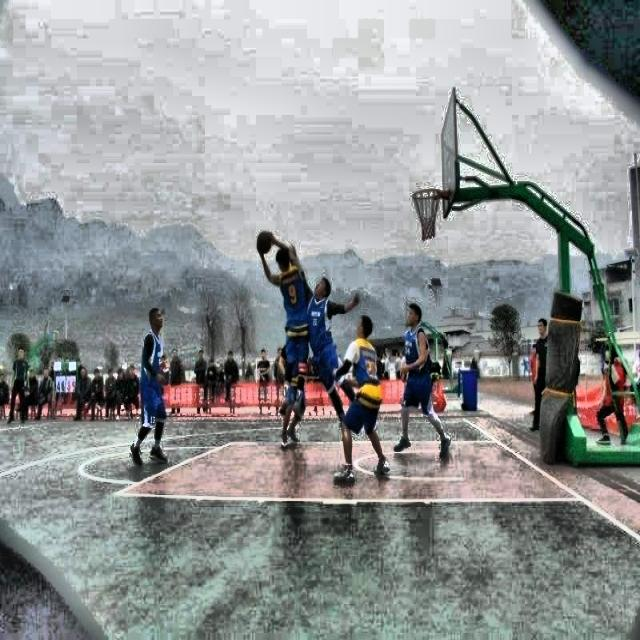board: (257, 231, 272, 253)
